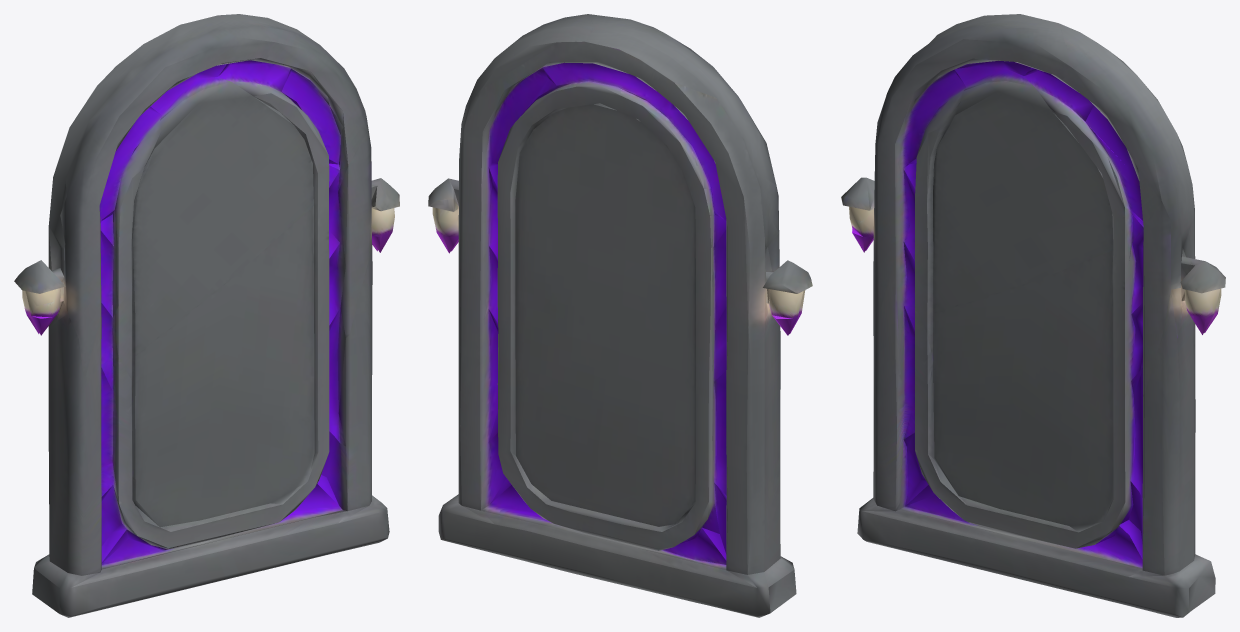
Rendered from m2MirrorGate.glb.
3 views of the same model, side by side, from view 1: azimuth 30°, elevation 25°; view 2: azimuth 150°, elevation 25°; view 3: azimuth 330°, elevation 25° (orthographic).
Parts seen in each view (by area): view 1: model; view 2: model; view 3: model.
Boxes of the visible parts, left/top/right/bottom form: model: left=14, top=14, right=399, bottom=617; model: left=428, top=14, right=812, bottom=617; model: left=841, top=14, right=1225, bottom=617.
Size of the model in its own units: 1.39 by 1.9 by 0.222.
Materials: 1 (1 with a texture image).
